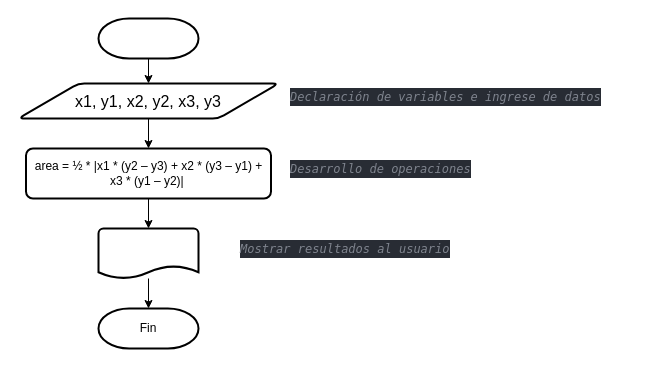
Some shapes in this 645 by 366 pixel diagram are drawn without their labels. The shapes that lost their labels are listed below. From the top down, each one's box as (x1, y1, x2, y2) in pixels, then its label:
(97, 17, 199, 59): Inicio
(97, 227, 199, 279): area
